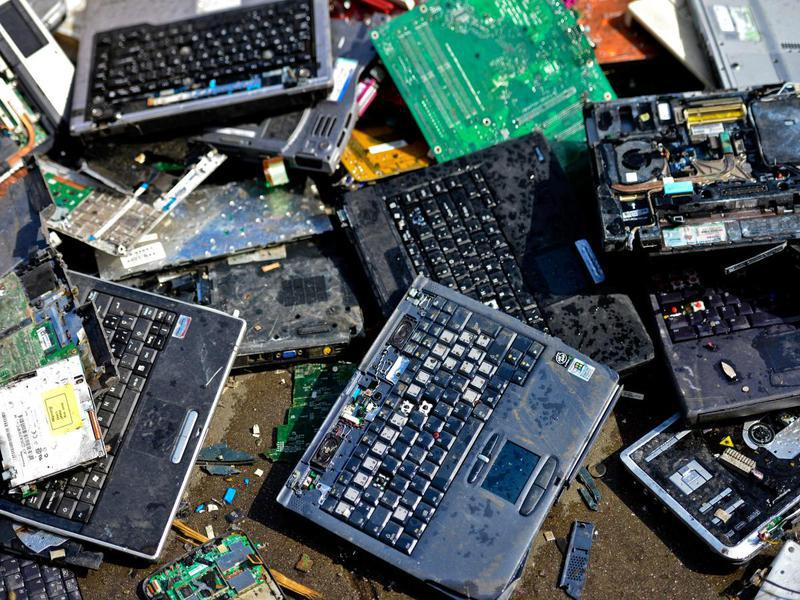circuit_board: (361, 1, 616, 164)
keyboard: (277, 282, 546, 569), (347, 129, 553, 330), (67, 2, 334, 135)
